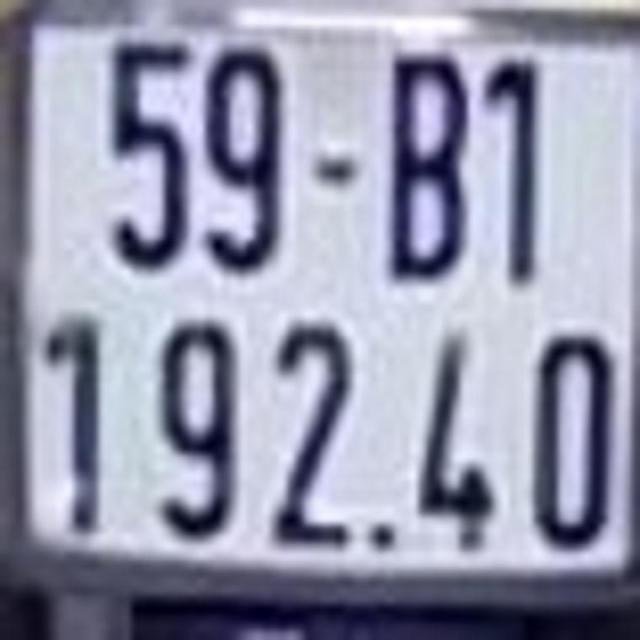0: (523, 321, 616, 554)
1: (34, 304, 108, 532), (481, 47, 548, 296)
2: (411, 314, 503, 554), (268, 312, 356, 546)
5: (102, 35, 196, 272)
9: (152, 308, 244, 540), (202, 40, 289, 279)
B: (379, 42, 474, 284)
